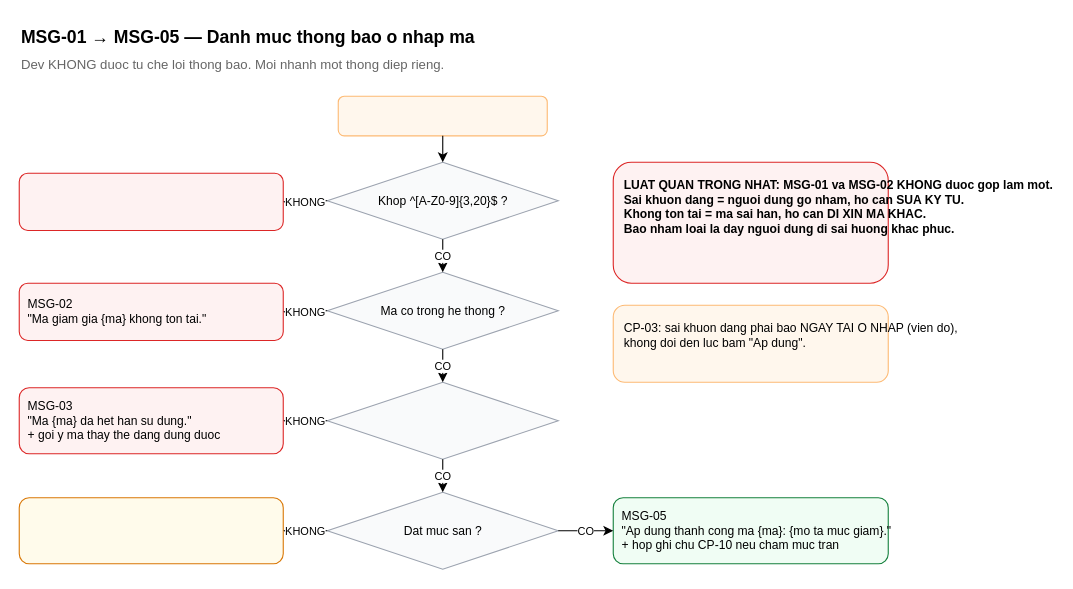
Some shapes in this 1073 by 589 pixel diagram are drawn without their labels. The shapes that lost their labels are listed below. From the top down, each one's centre as x and y in pixels, then its label:
[442,115]: Nguoi dung bam "Ap dung"
[150,201]: MSG-01 "Ma chi gom chu in hoa va so, dai 3-20 ky tu."
[442,420]: Con han ?
[150,530]: MSG-04 "Don hang can toi thieu {X} d. Con thieu {Y} d."
